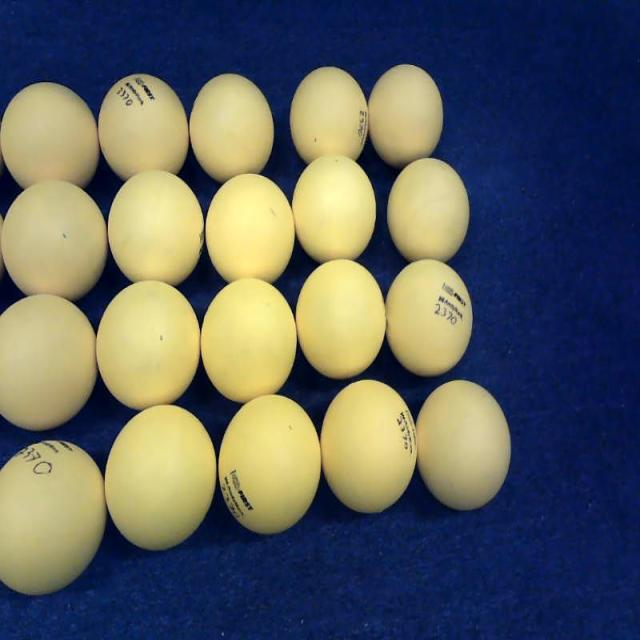Fuel: (0, 438, 107, 596), (104, 404, 217, 552), (218, 394, 322, 535), (96, 280, 202, 411), (0, 294, 99, 432), (319, 378, 418, 514), (1, 180, 108, 304), (414, 378, 512, 512), (200, 278, 298, 404), (107, 170, 205, 288), (0, 81, 101, 194), (295, 259, 386, 380), (384, 259, 473, 378), (205, 172, 295, 288), (98, 73, 190, 184), (189, 73, 274, 185), (292, 153, 376, 265), (387, 157, 470, 265), (367, 63, 444, 170), (290, 66, 369, 168)
